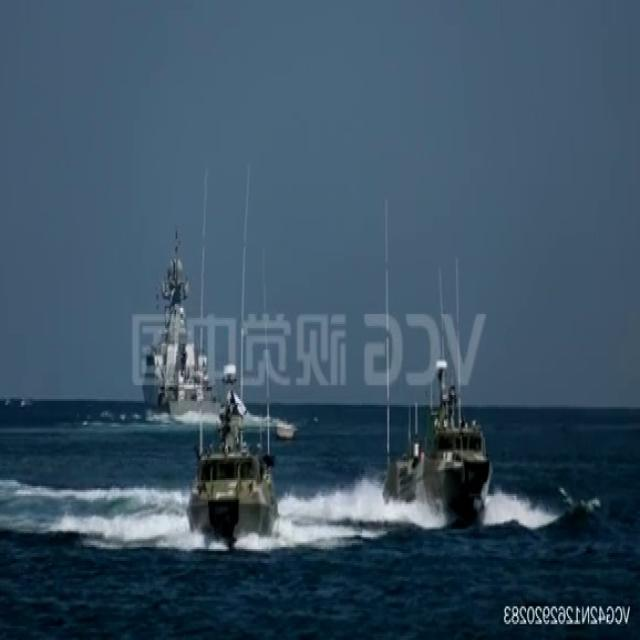houseboat: (383, 355, 491, 522), (192, 378, 280, 545)
navalvessels: (140, 250, 213, 420)
